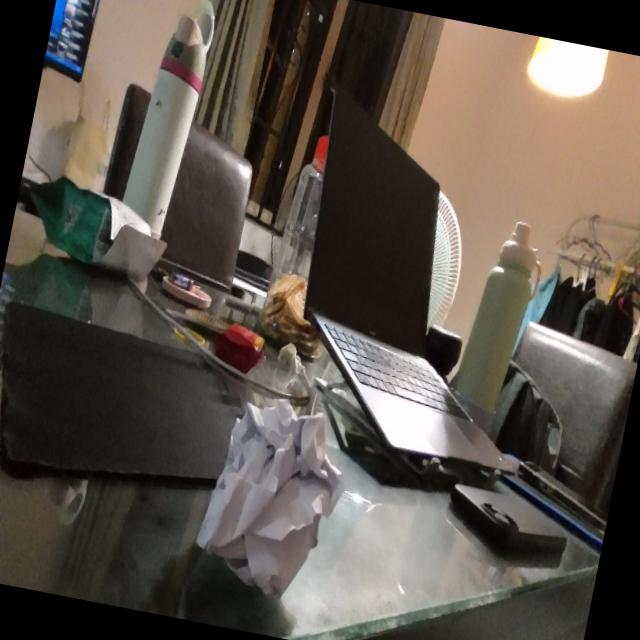crumpled_paper: (186, 388, 362, 616)
